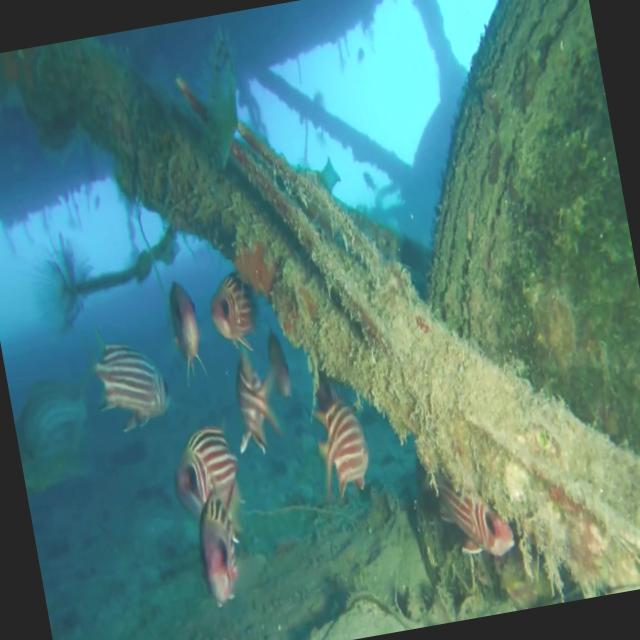Asker Baligi: (154, 409, 258, 521), (84, 318, 182, 433)
